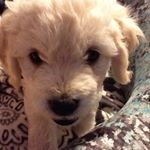puppy: (1, 1, 143, 132)
